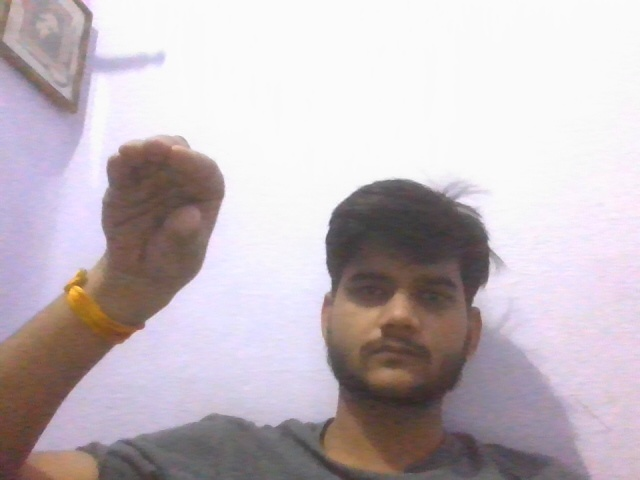sorry: (86, 125, 245, 284)
